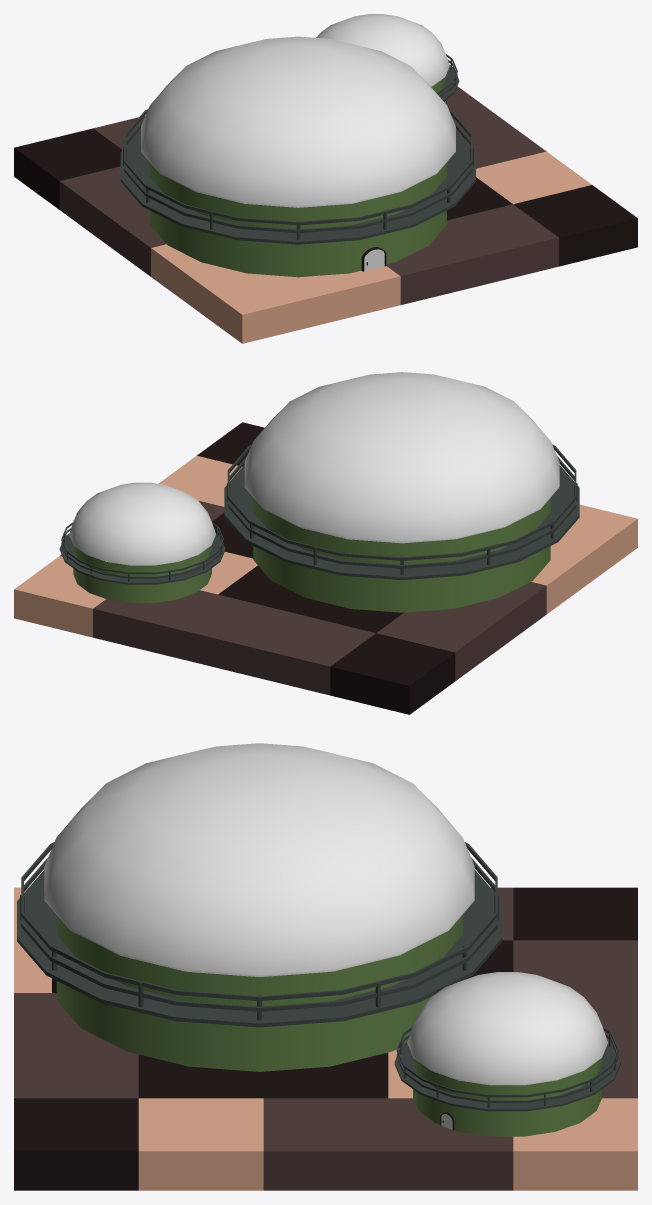
Rendered from 沼氣發電廠.fbx.
3 renders of one model, top to bottom at view 1: azimuth 30°, elevation 25°; view 2: azimuth 150°, elevation 25°; view 3: azimuth 270°, elevation 25°, orthographic. The views are drawn at different scales.
Parts seen in each view (by area): view 1: Cylinder081, plane_bad_air, Cylinder084, Cylinder083, Cylinder082, door; view 2: Cylinder081, plane_bad_air, Cylinder084, Cylinder083, Cylinder082, Cylinder086, Cylinder085; view 3: Cylinder081, plane_bad_air, Cylinder084, Cylinder083, Cylinder082, Cylinder086, Cylinder085.
Boxes of the visible parts, x1=… form: Cylinder081: x1=120, y1=36, x2=475, y2=277; plane_bad_air: x1=14, y1=86, x2=637, y2=343; Cylinder084: x1=316, y1=14, x2=459, y2=101; Cylinder083: x1=124, y1=109, x2=472, y2=225; Cylinder082: x1=124, y1=120, x2=472, y2=233; door: x1=361, y1=247, x2=386, y2=271; Cylinder081: x1=224, y1=372, x2=579, y2=612; plane_bad_air: x1=14, y1=422, x2=637, y2=714; Cylinder084: x1=59, y1=482, x2=225, y2=602; Cylinder083: x1=227, y1=444, x2=576, y2=560; Cylinder082: x1=227, y1=456, x2=576, y2=568; Cylinder086: x1=61, y1=522, x2=223, y2=574; Cylinder085: x1=61, y1=528, x2=223, y2=578; Cylinder081: x1=17, y1=743, x2=502, y2=1071; plane_bad_air: x1=14, y1=887, x2=637, y2=1190; Cylinder084: x1=394, y1=972, x2=620, y2=1136; Cylinder083: x1=21, y1=842, x2=497, y2=1001; Cylinder082: x1=21, y1=857, x2=497, y2=1011; Cylinder086: x1=396, y1=1026, x2=618, y2=1097; Cylinder085: x1=396, y1=1034, x2=618, y2=1102.
Size of the model in its own units: 103 by 43.33 by 100.
